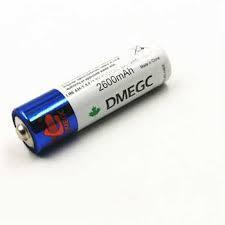AA: (10, 40, 174, 157)
